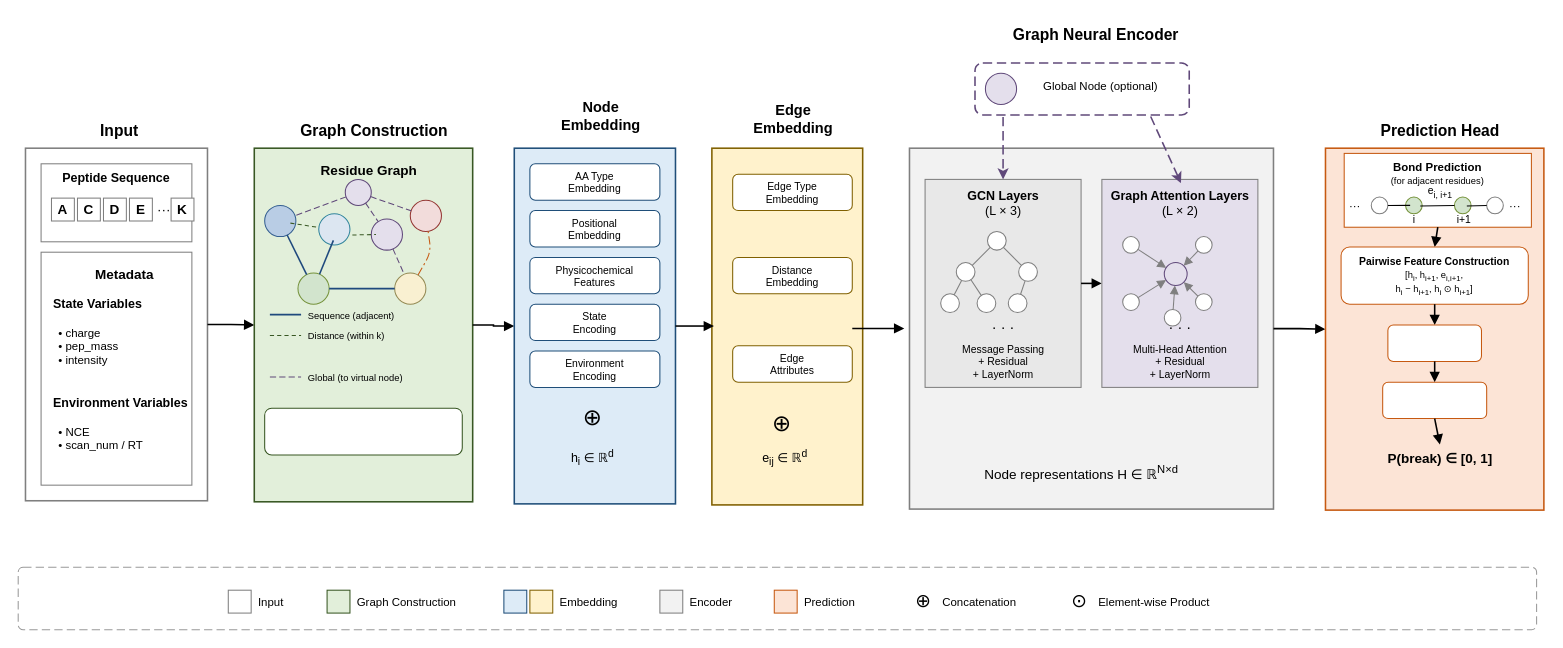
Some shapes in this 1563 by 648 pixel diagram are drawn without their labels. Here are the shapes that lost their labels. From the top down, the centre of each, then its label:
point 1434,342: MLP
point 1434,400: Sigmoid
point 363,431: Edge Attributes (e.g., m/z diff., intensity ratio, ...)
